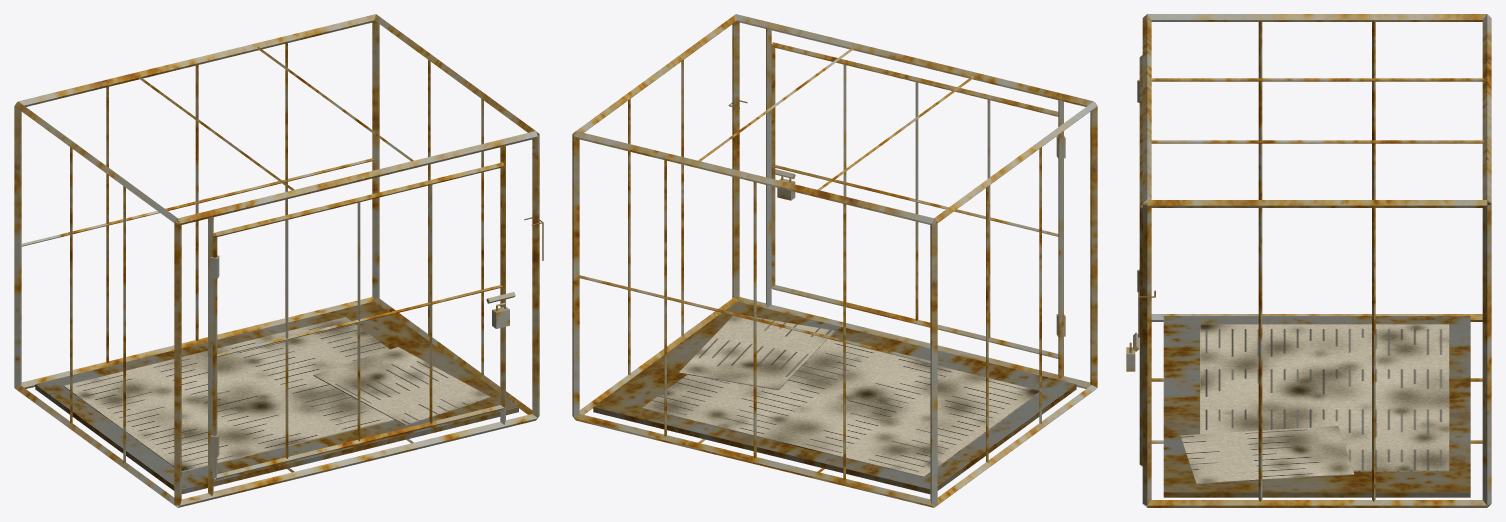
The model's file is long_cho_lod1.glb.
The picture shows the model from 3 angles, left to right: view 1: azimuth 30°, elevation 25°; view 2: azimuth 150°, elevation 25°; view 3: azimuth 270°, elevation 25°; orthographic projection. The views are drawn at different scales.
Visible parts, largest first — view 1: cage_fixed, cage_door; view 2: cage_fixed, cage_door; view 3: cage_fixed, cage_door.
Part boxes in pixels (x1,y1,x2,y2): cage_fixed: [14, 14, 543, 507]; cage_door: [212, 162, 515, 479]; cage_fixed: [572, 14, 1097, 507]; cage_door: [771, 42, 1058, 358]; cage_fixed: [1137, 14, 1491, 507]; cage_door: [1126, 55, 1142, 466].
Bounding box in the file's own units: 0.9005 × 0.682 × 0.733.
Materials: 1 (1 with a texture image).
